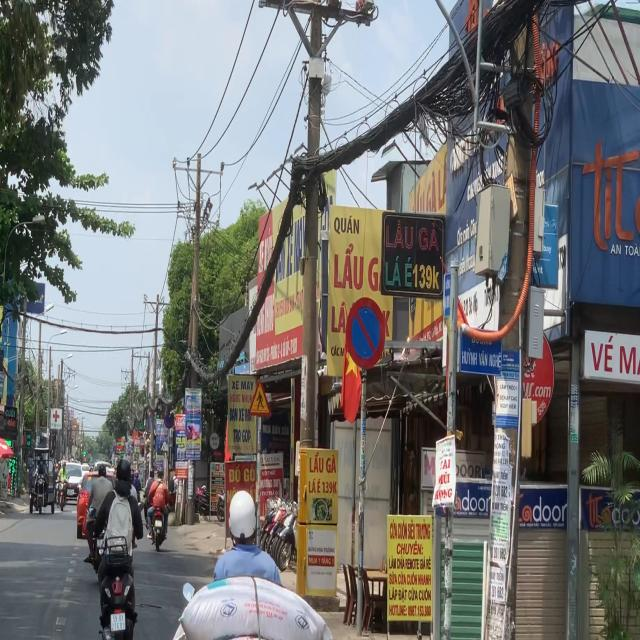Cam do: (345, 296, 386, 368)
Nguoi di bo cat ngang: (249, 381, 272, 416)
